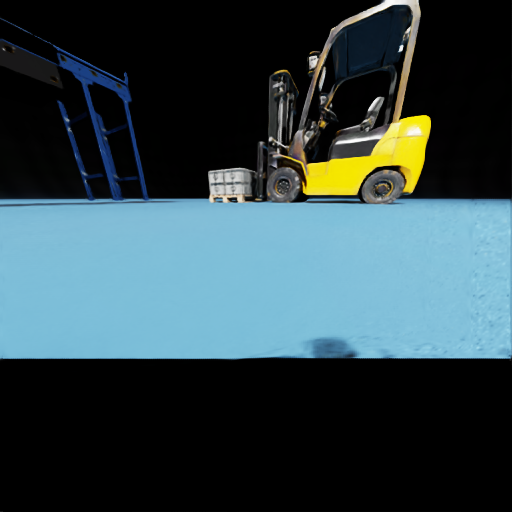transportation_area: (225, 182, 256, 194), (74, 62, 75, 63)
